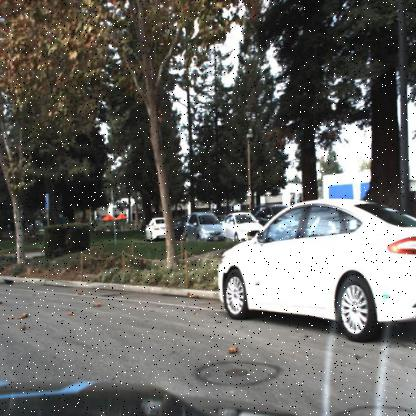car: (218, 197, 416, 345), (182, 208, 223, 244), (224, 209, 262, 239), (142, 213, 168, 240)
